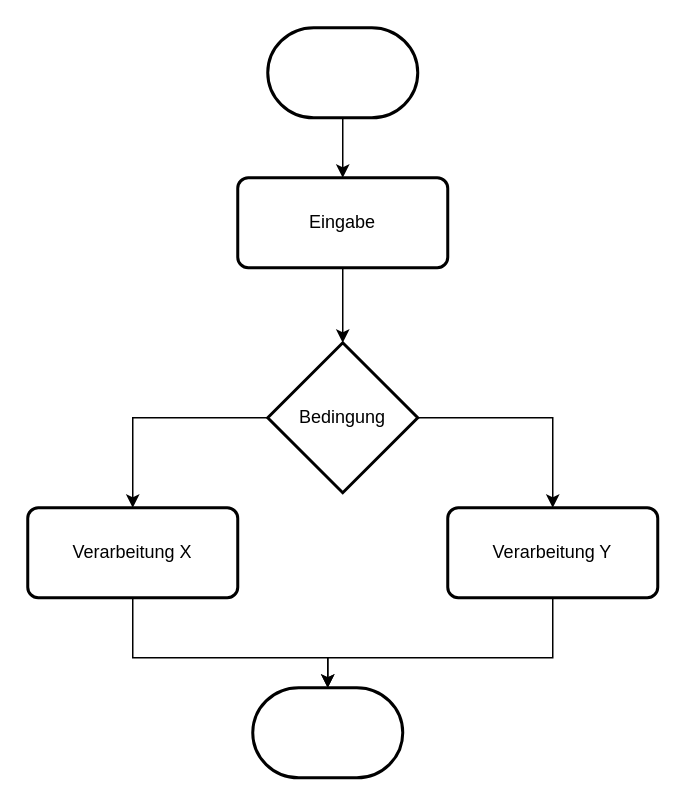
Some shapes in this 684 by 804 pixel diagram are drawn without their labels. Each missing label, with the centre of its shape:
Ende: (x=327, y=732)
Start: (x=342, y=72)
